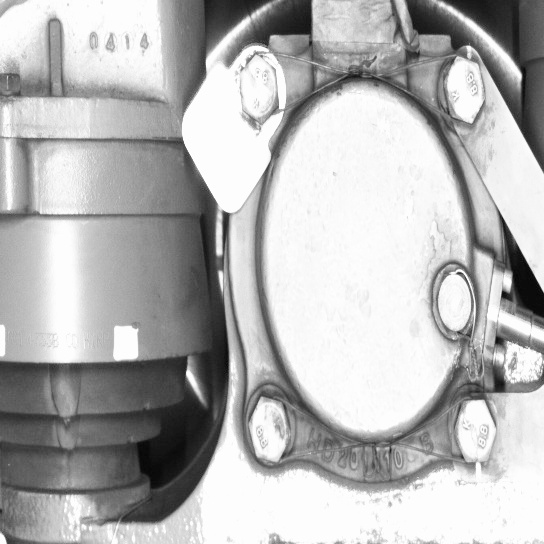IronWire: (240, 388, 502, 472), (231, 47, 491, 130)
Screw: (231, 47, 286, 129), (437, 47, 490, 130), (241, 388, 294, 470), (446, 390, 501, 469), (429, 261, 475, 342)
